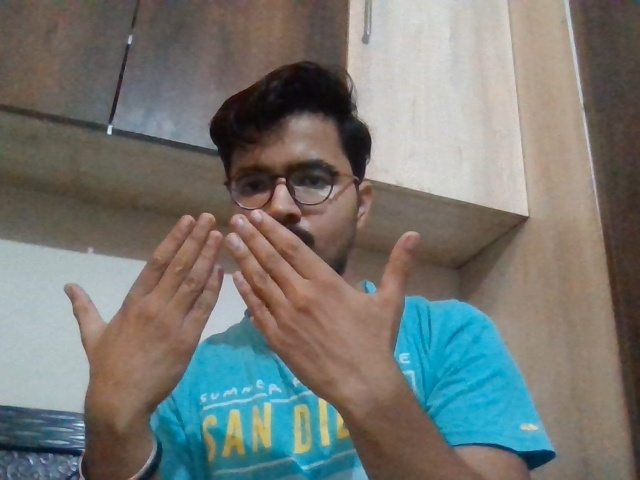thankyou: (59, 183, 424, 429)
